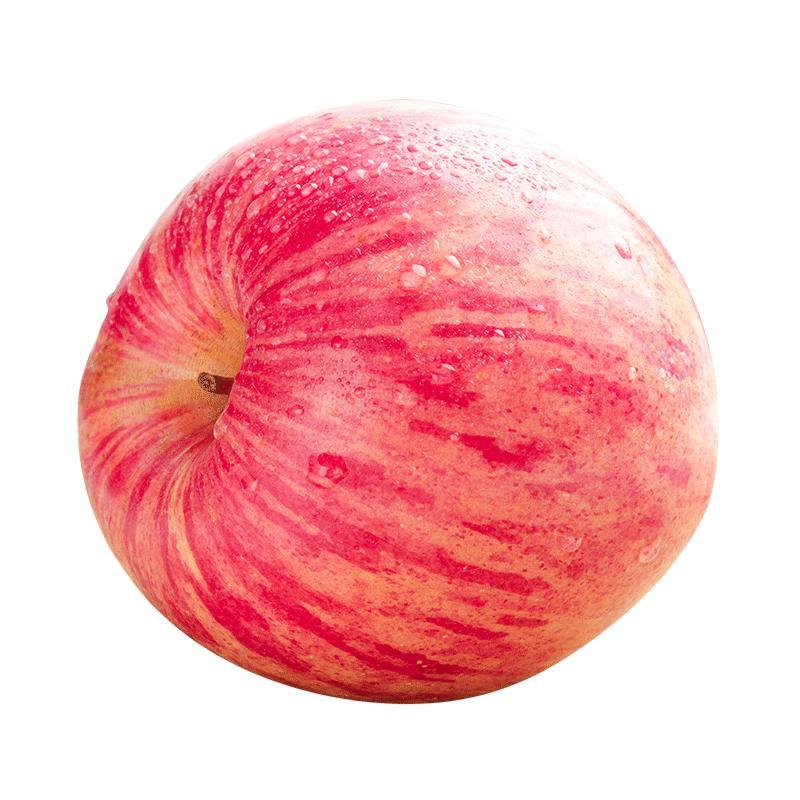apple: (71, 95, 727, 709)
